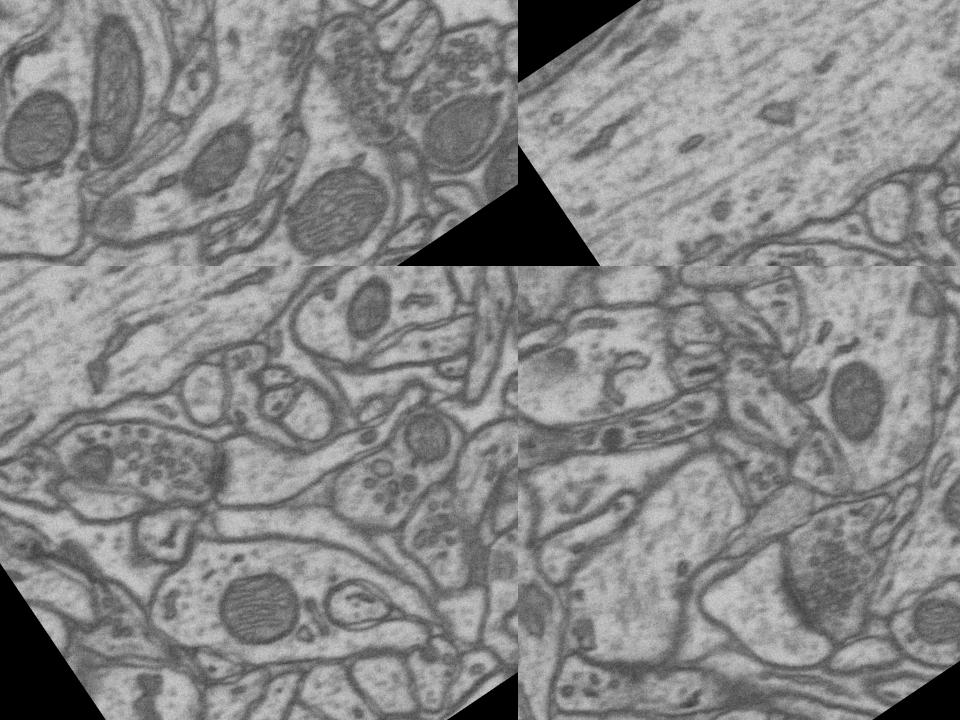mitochondria: (25, 0, 202, 181), (518, 0, 690, 135), (176, 545, 326, 689), (262, 143, 412, 266), (798, 342, 918, 464), (0, 64, 105, 195), (401, 73, 518, 187), (162, 110, 279, 218), (36, 414, 142, 518), (383, 402, 479, 502), (326, 266, 428, 343), (448, 104, 518, 210), (890, 571, 960, 673), (916, 440, 960, 562), (340, 705, 424, 720)
